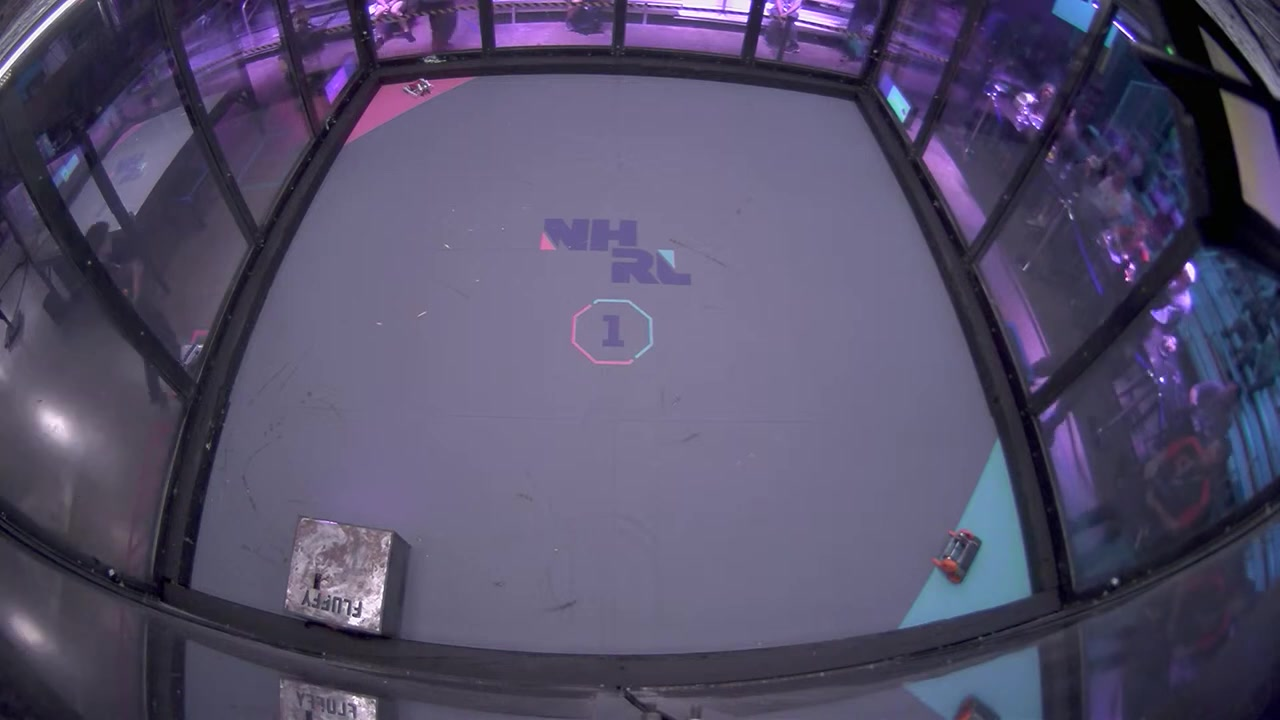combatbot: (929, 528, 984, 588), (401, 77, 435, 100)
housebot: (284, 516, 414, 638)
minibot: (930, 528, 985, 588)
